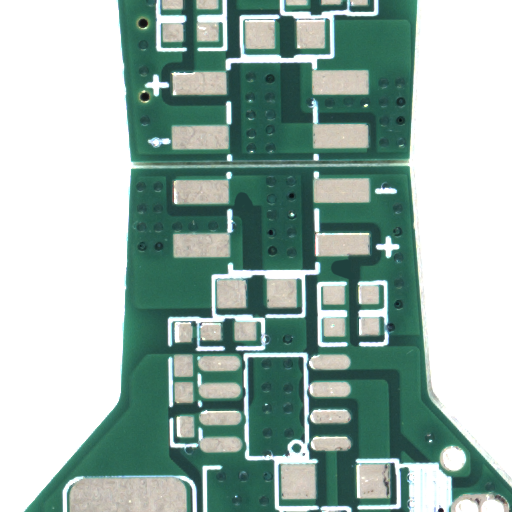Mouse_bite: (341, 269, 360, 288), (243, 199, 262, 215)
